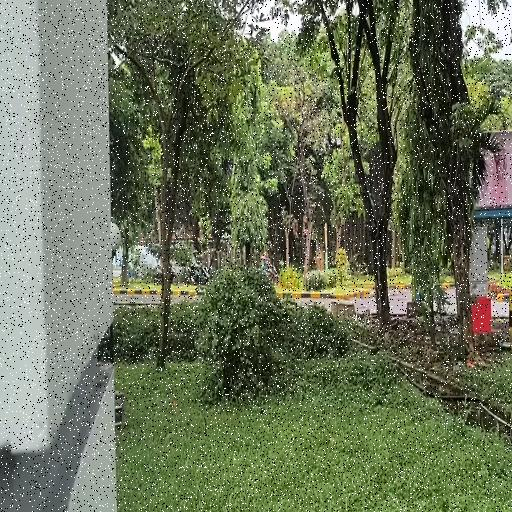Motor: (185, 251, 210, 286), (261, 254, 279, 284), (170, 264, 178, 285)
